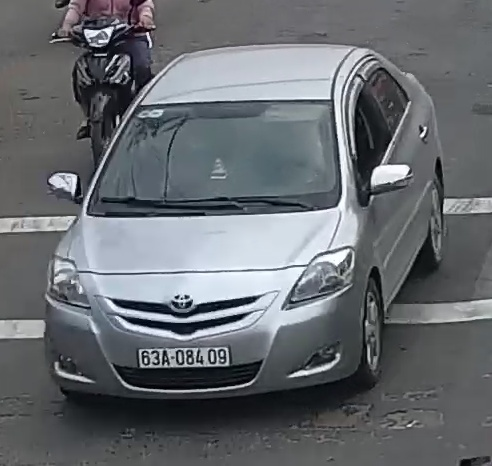vehicle plate: (129, 343, 236, 368)
